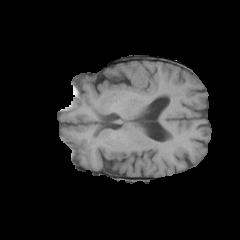glioma: (98, 68, 158, 101)
